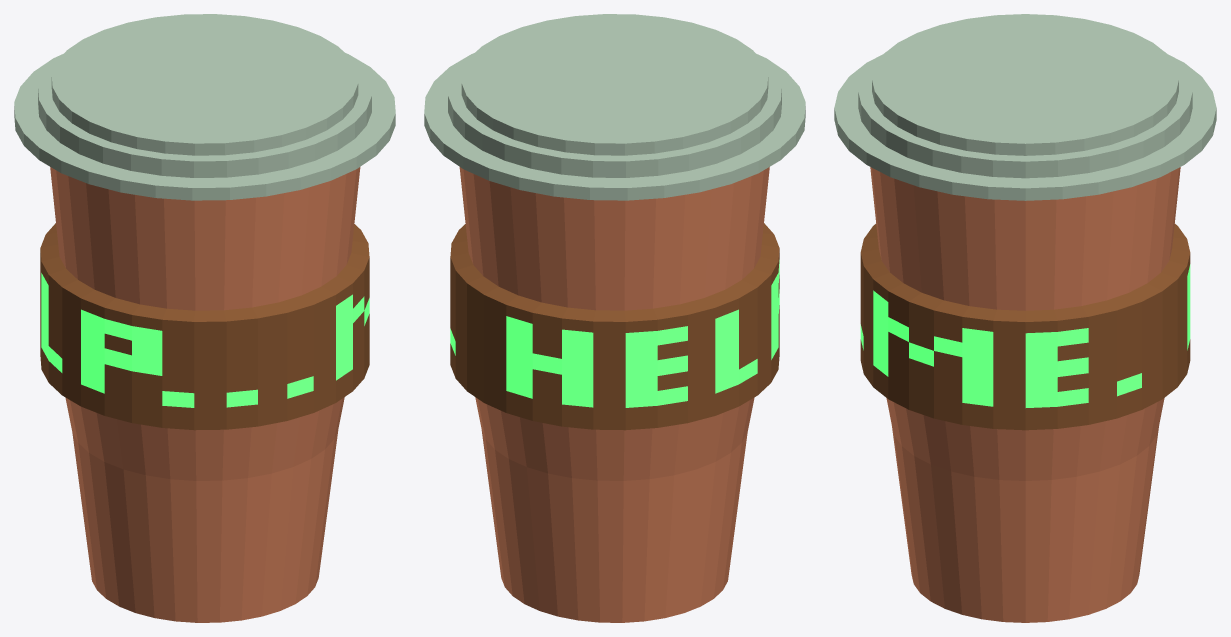
The model's file is Kawusia_2.fbx.
The picture shows the model from 3 angles, left to right: view 1: azimuth 30°, elevation 25°; view 2: azimuth 150°, elevation 25°; view 3: azimuth 270°, elevation 25°; orthographic projection.
Parts seen in each view (by area): view 1: Circle; view 2: Circle; view 3: Circle.
Part boxes in pixels (x1,y1,x2,y2): Circle: (14, 14, 395, 622); Circle: (424, 14, 805, 622); Circle: (834, 14, 1216, 622).
Bounding box in the file's own units: 335 × 480 × 335.
